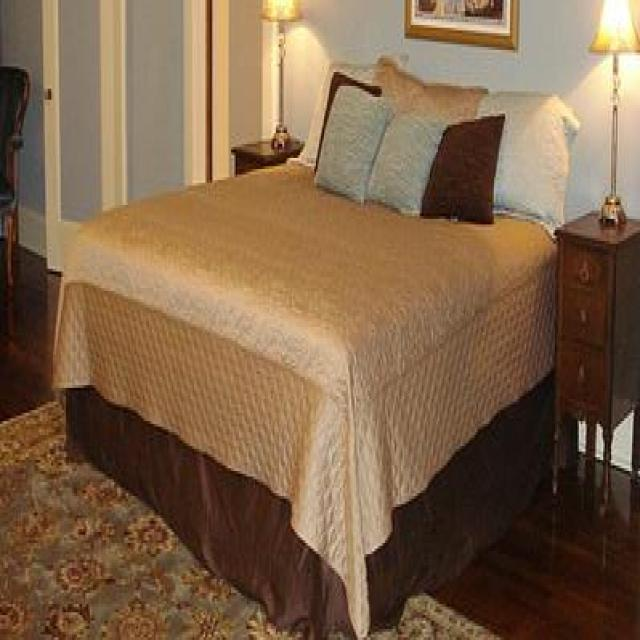bed: (50, 53, 579, 637)
